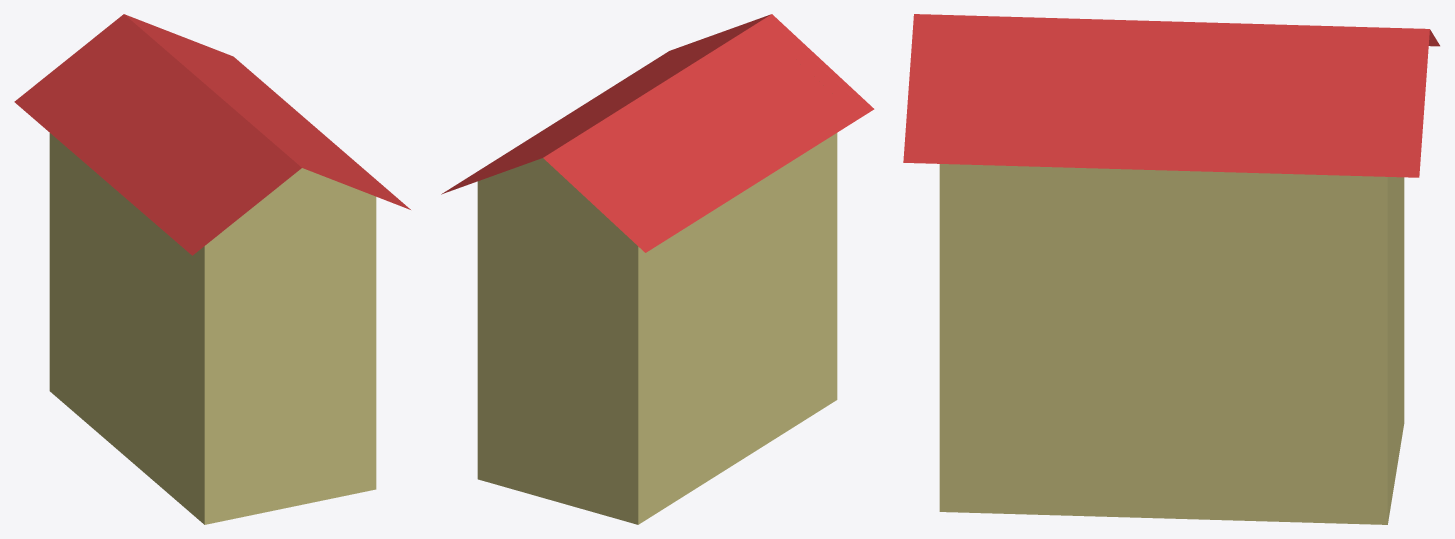
3 views of the same model, side by side, from view 1: azimuth 30°, elevation 25°; view 2: azimuth 150°, elevation 25°; view 3: azimuth 270°, elevation 25° (orthographic). The views are drawn at different scales.
Size of the model in its own units: 5.1 by 7.91 by 7.24.
